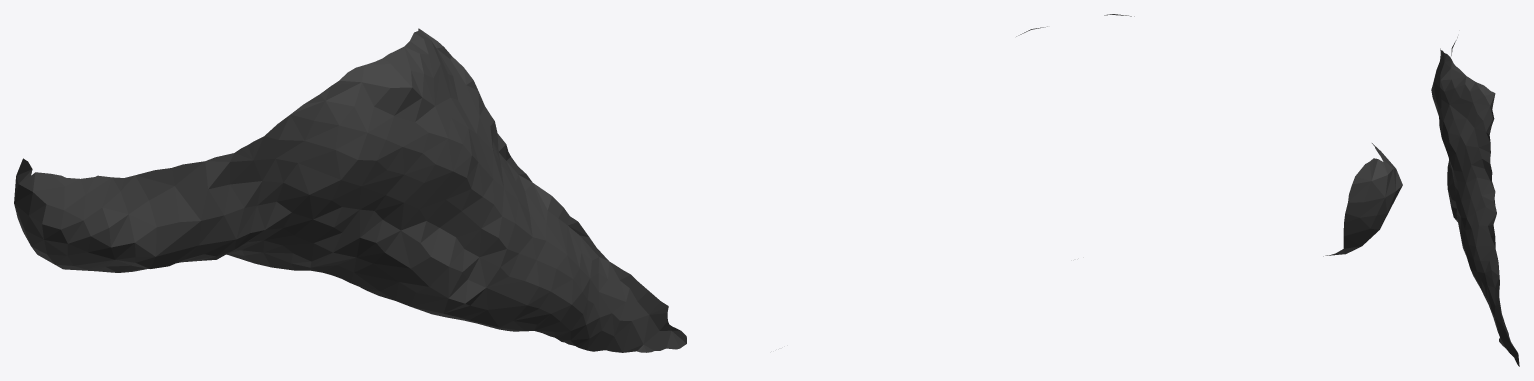
The model's file is M_cleidobrachialis_M_cleidobrachialis.glb.
3 views of the same model, side by side, from view 1: azimuth 30°, elevation 25°; view 2: azimuth 150°, elevation 25°; view 3: azimuth 270°, elevation 25° (orthographic). The views are drawn at different scales.
Parts seen in each view (by area): view 1: M_cleidobrachialis_M_cleidobrachialis; view 2: M_cleidobrachialis_M_cleidobrachialis; view 3: M_cleidobrachialis_M_cleidobrachialis.
Part boxes in pixels (x1,y1,x2,y2): M_cleidobrachialis_M_cleidobrachialis: [14, 28, 686, 352]; M_cleidobrachialis_M_cleidobrachialis: [1016, 14, 1402, 256]; M_cleidobrachialis_M_cleidobrachialis: [1431, 37, 1519, 366].
Size of the model in its own units: 0.0438 by 0.0255 by 0.00958.
1 material, 1 textured.
